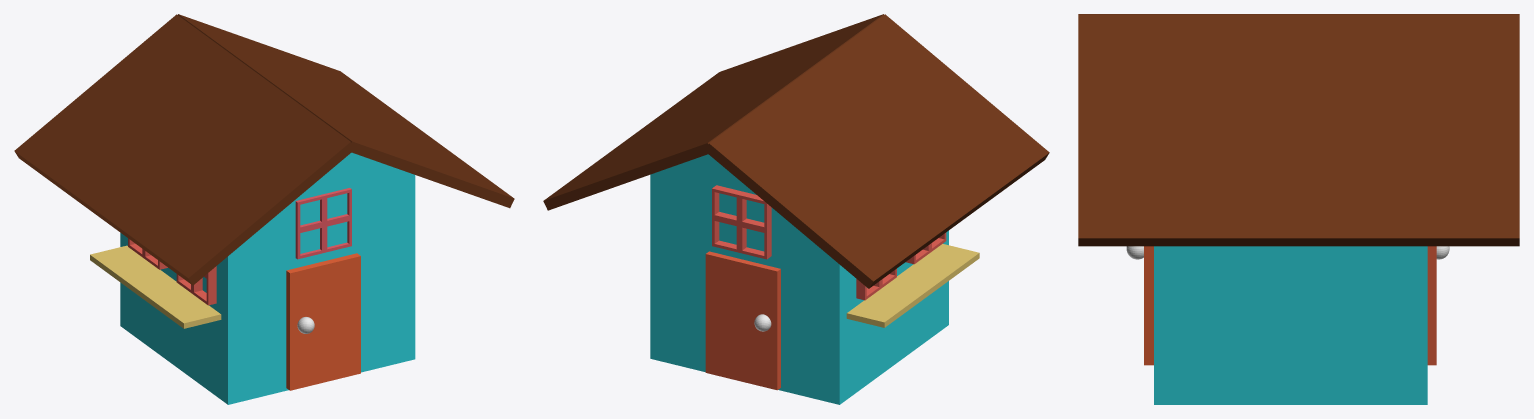
Rendered from House.fbx.
The picture shows the model from 3 angles, left to right: view 1: azimuth 30°, elevation 25°; view 2: azimuth 150°, elevation 25°; view 3: azimuth 270°, elevation 25°; orthographic projection. The views are drawn at different scales.
Parts seen in each view (by area): view 1: Cube, Cube.004, Cube.003, Cube.007, Cube.001; view 2: Cube, Cube.005, Cube.003, Cube.006, Cube.002; view 3: Cube, Cube.004, Cube.005.
Part boxes in pixels (left/top/right/bottom): Cube: left=14, top=14, right=514, bottom=404; Cube.004: left=286, top=253, right=360, bottom=390; Cube.003: left=90, top=245, right=221, bottom=328; Cube.007: left=295, top=188, right=351, bottom=259; Cube.001: left=176, top=266, right=216, bottom=305; Cube: left=543, top=14, right=1049, bottom=404; Cube.005: left=705, top=251, right=780, bottom=390; Cube.003: left=846, top=244, right=979, bottom=327; Cube.006: left=712, top=185, right=771, bottom=259; Cube.002: left=856, top=268, right=896, bottom=300; Cube: left=1078, top=14, right=1519, bottom=404; Cube.004: left=1144, top=246, right=1153, bottom=365; Cube.005: left=1427, top=246, right=1436, bottom=365.
Bounding box in the file's own units: 349 × 268 × 323.
